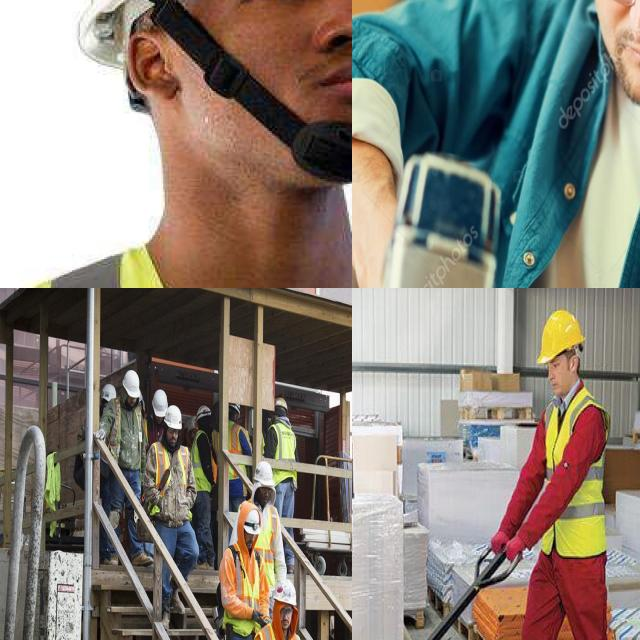No_Ear-Protection: (120, 28, 186, 109)
No_Glasses: (227, 0, 352, 32)
face_nomask: (180, 0, 352, 185), (278, 604, 294, 632), (166, 425, 181, 449)
glasses: (277, 606, 294, 618)
hand_glove: (502, 530, 527, 567), (490, 519, 510, 558)
head_helmet: (536, 307, 586, 367), (238, 501, 263, 533), (272, 579, 302, 604), (122, 372, 146, 400), (256, 460, 276, 490), (151, 388, 168, 418), (168, 405, 185, 430), (100, 384, 116, 404), (193, 406, 212, 420)
person: (0, 0, 352, 288), (500, 309, 639, 640), (269, 384, 305, 574), (164, 405, 187, 616), (229, 503, 262, 640), (257, 577, 312, 640), (254, 464, 283, 573), (194, 406, 214, 544), (226, 403, 247, 502), (118, 371, 141, 460), (150, 382, 168, 449), (94, 381, 112, 431)
vest: (0, 246, 352, 288), (542, 388, 610, 563), (228, 546, 267, 619), (154, 445, 188, 518), (268, 422, 300, 480), (114, 403, 143, 462), (222, 428, 253, 474), (190, 430, 214, 488), (259, 508, 281, 570)
